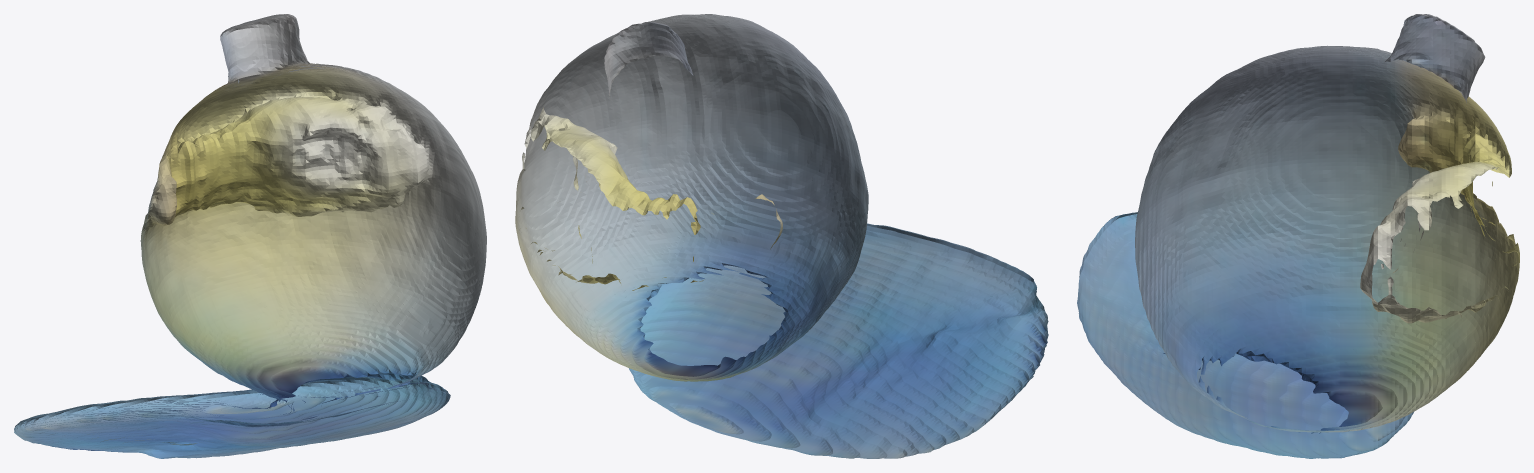
The picture shows the model from 3 angles, left to right: view 1: azimuth 30°, elevation 25°; view 2: azimuth 150°, elevation 25°; view 3: azimuth 270°, elevation 25°; orthographic projection. The views are drawn at different scales.
Visible parts, largest first — view 1: geometry_0; view 2: geometry_0; view 3: geometry_0.
Part boxes in pixels (x1,y1,x2,y2): geometry_0: (14,14,486,458); geometry_0: (515,14,1048,458); geometry_0: (1077,14,1519,458).
Bounding box in the file's own units: 1.6 × 1.28 × 1.22.
